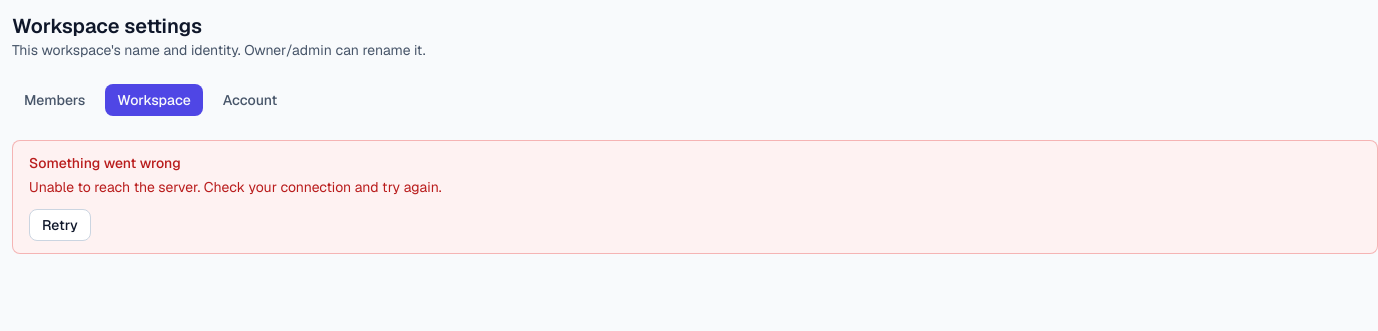
Test case: WorkspaceSettingsPage › shows a network-error state (not empty) and recovers via Retry
The image size is (1378, 331).
Expected: the text "Something went wrong" is shown, [29,154,181,172]
What coordinates should you click on to do the following:
click the button "Retry"
I would click on:
 (60, 225)
Its box is [29,209,91,241].
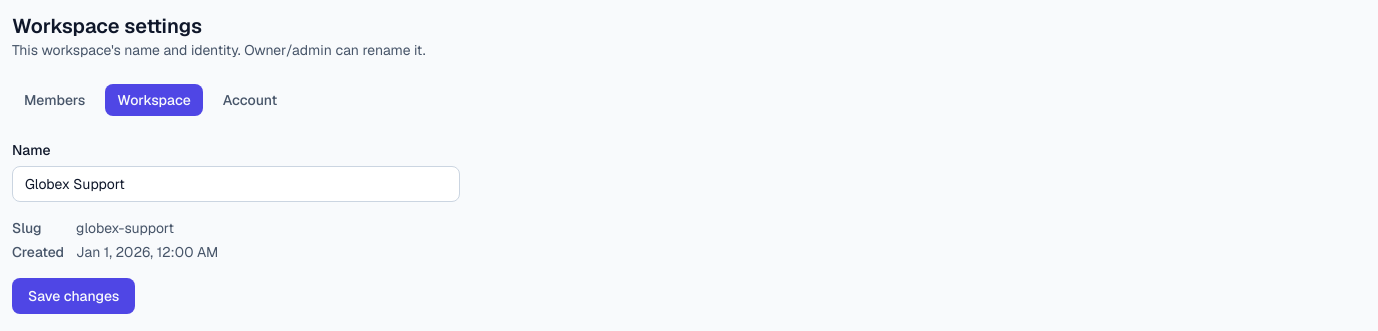
Expected: the field showing "Globex Support" is shown, [12,166,460,202]
